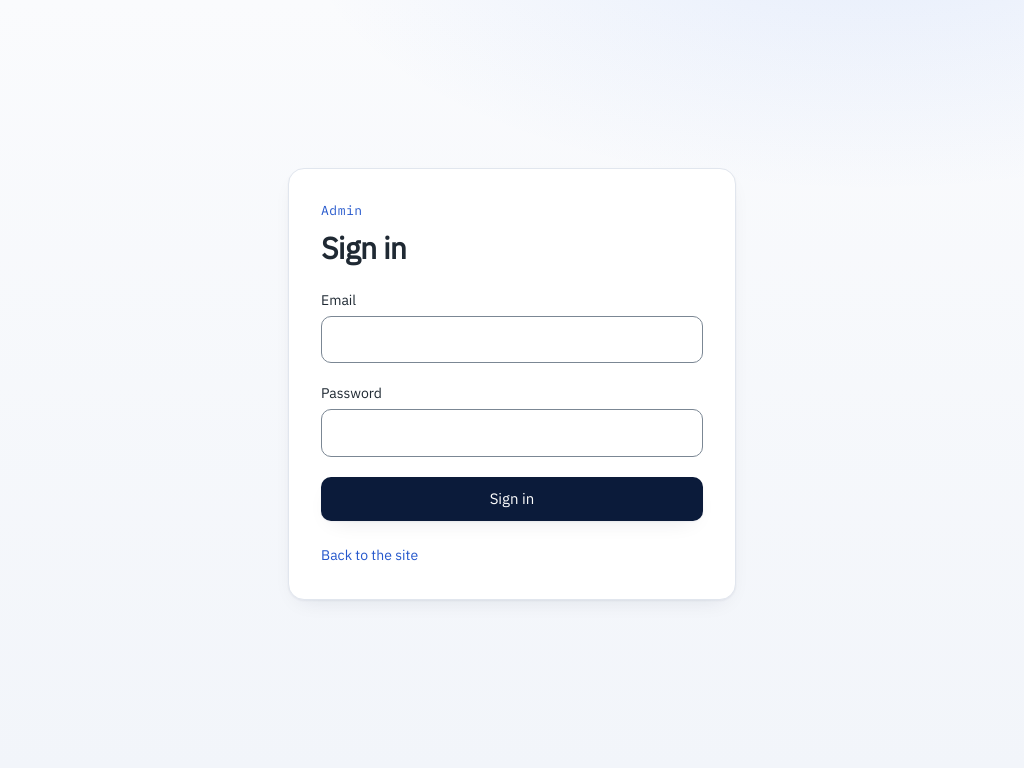
Test case: admin authentication › signs in, then lands on the page the visitor originally asked for
In the field labelled "Email": (512, 339) top-left (321, 316), bottom-right (703, 363), type "admin@example.test"
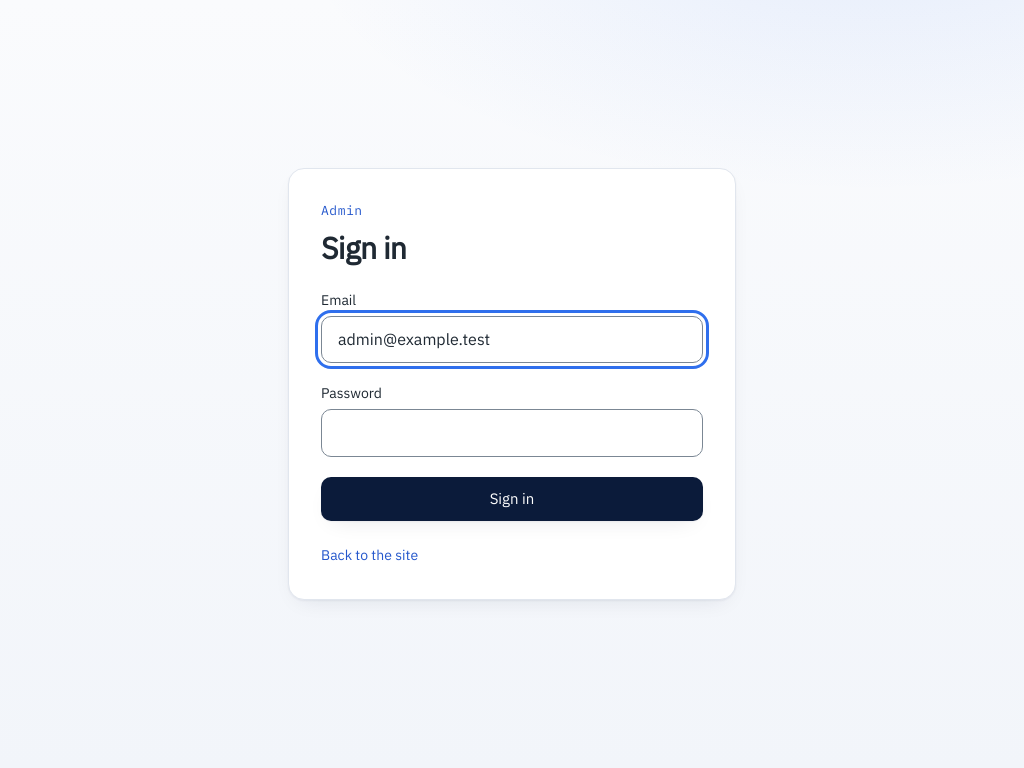
In the password field labelled "Password": (512, 433) top-left (321, 409), bottom-right (703, 457), type "correct horse battery"
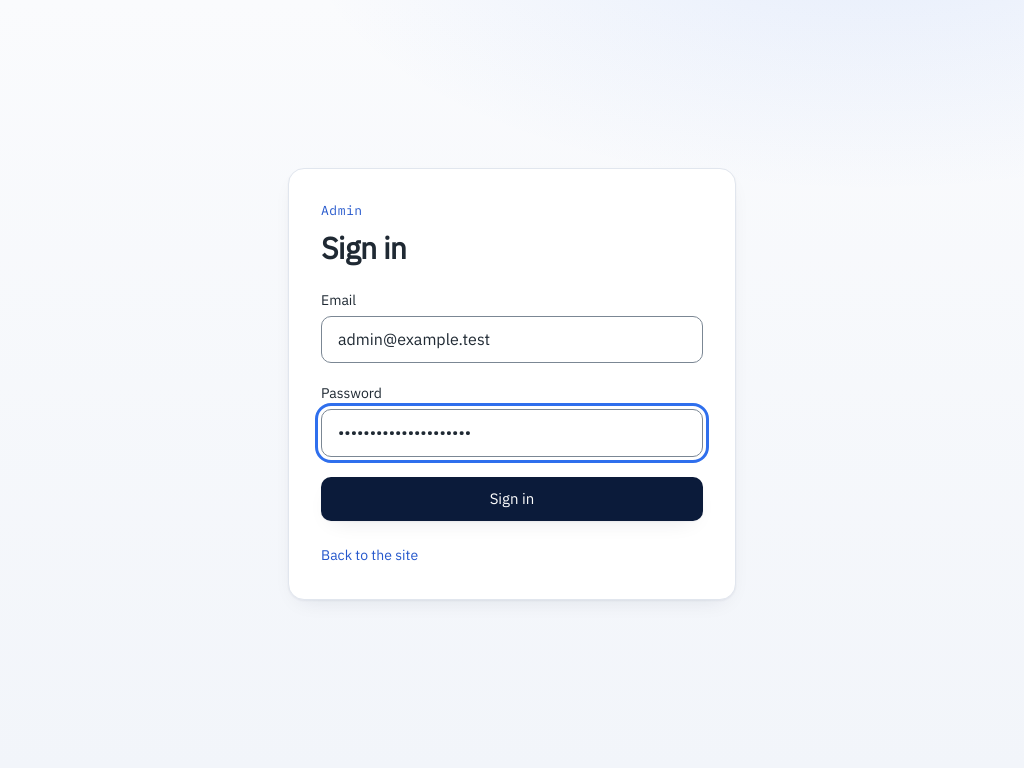
Click the button "Sign in": (512, 499) top-left (321, 477), bottom-right (703, 521)
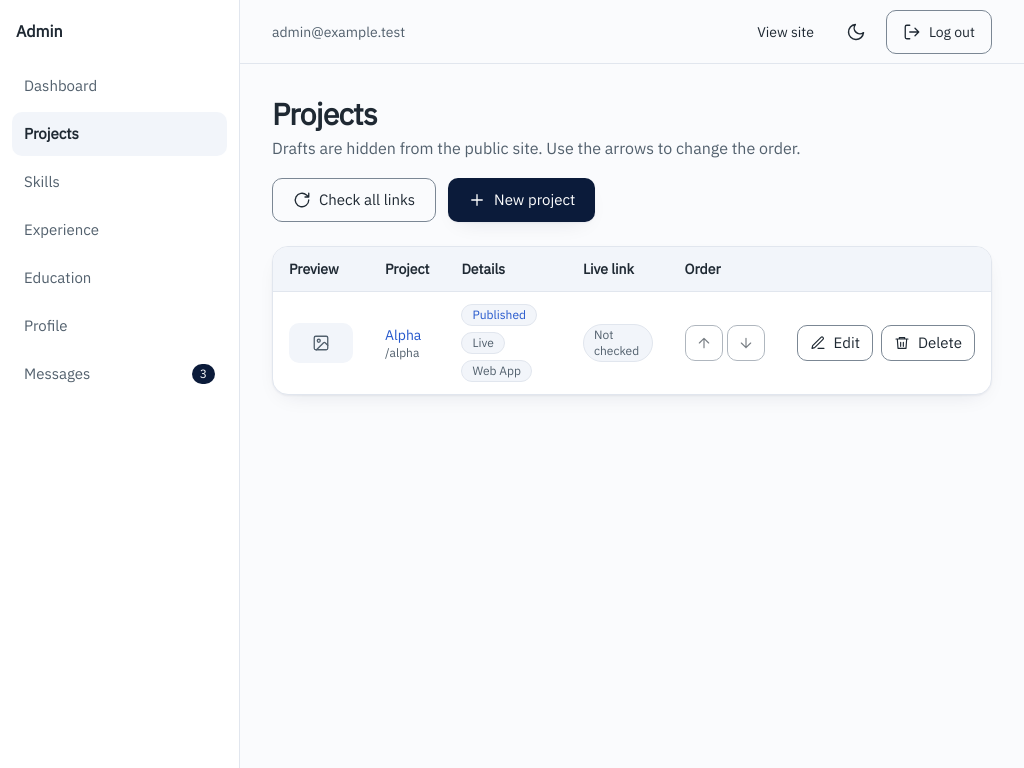
Now the heading "Projects" is shown, box top-left (272, 94), bottom-right (377, 133)
